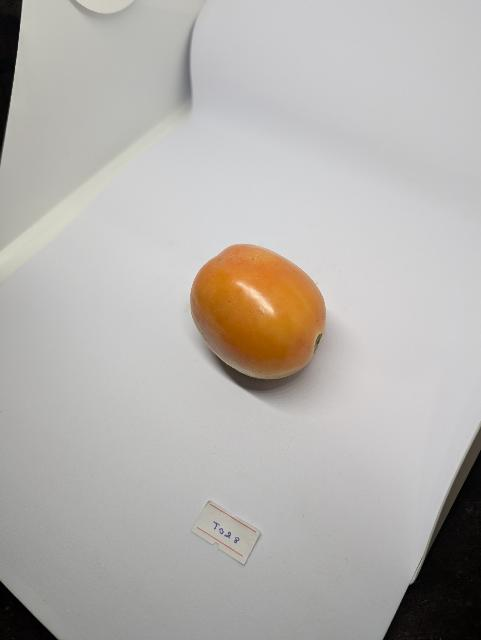turning: (179, 235, 344, 398)
